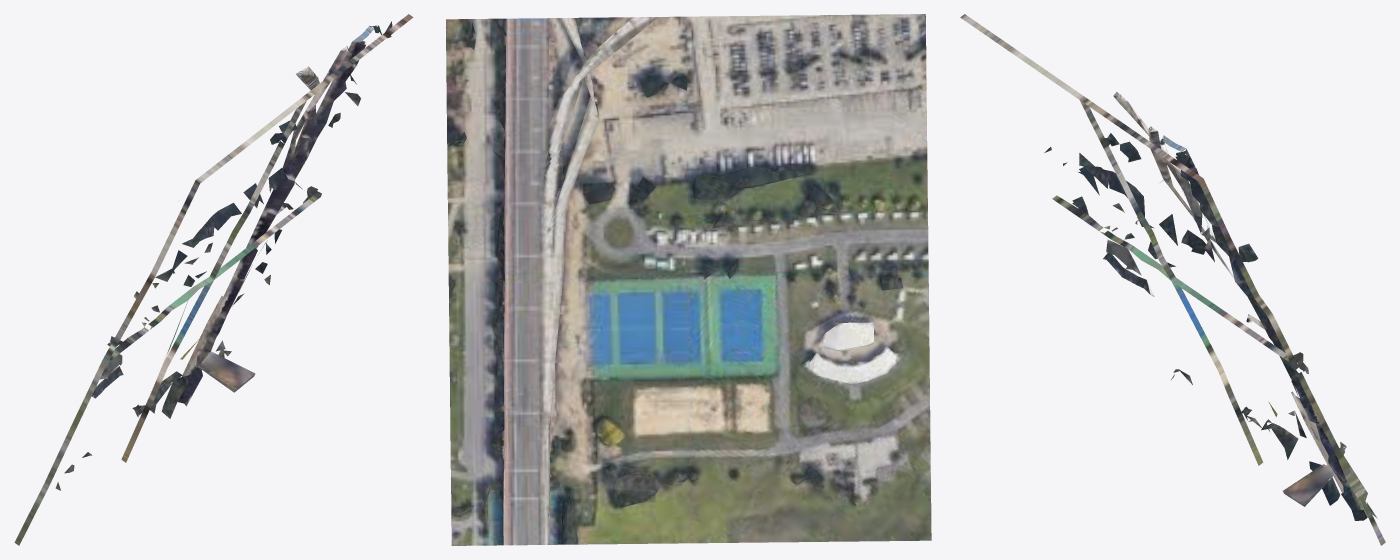
3 views of the same model, side by side, from view 1: azimuth 30°, elevation 25°; view 2: azimuth 150°, elevation 25°; view 3: azimuth 270°, elevation 25° (orthographic). The views are drawn at different scales.
Bounding box in the file's own units: 305 × 284 × 258.
Materials: 1 (1 with a texture image).
